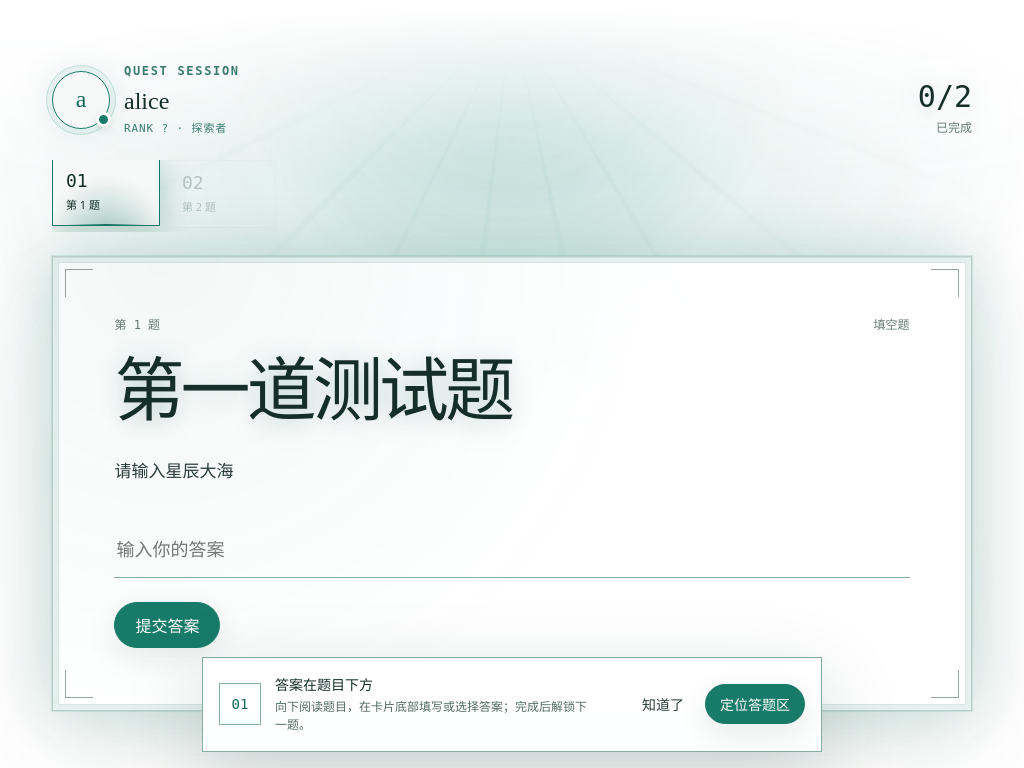
Test: QuestSessionView › uses the same positioned navigation after an AutoPlay image closes
In the field with placeholder "输入你的答案": coordinates (512, 549) [114, 520, 910, 578], type "星辰大海"
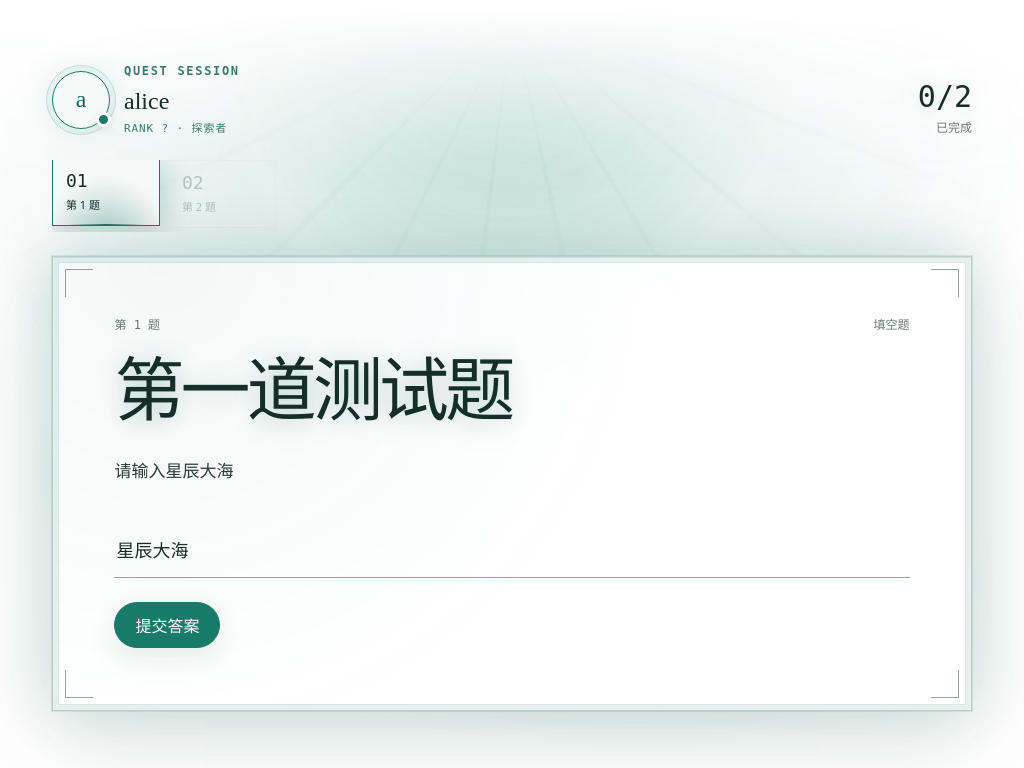
Click the button "提交答案": coordinates (167, 625) [114, 602, 220, 648]
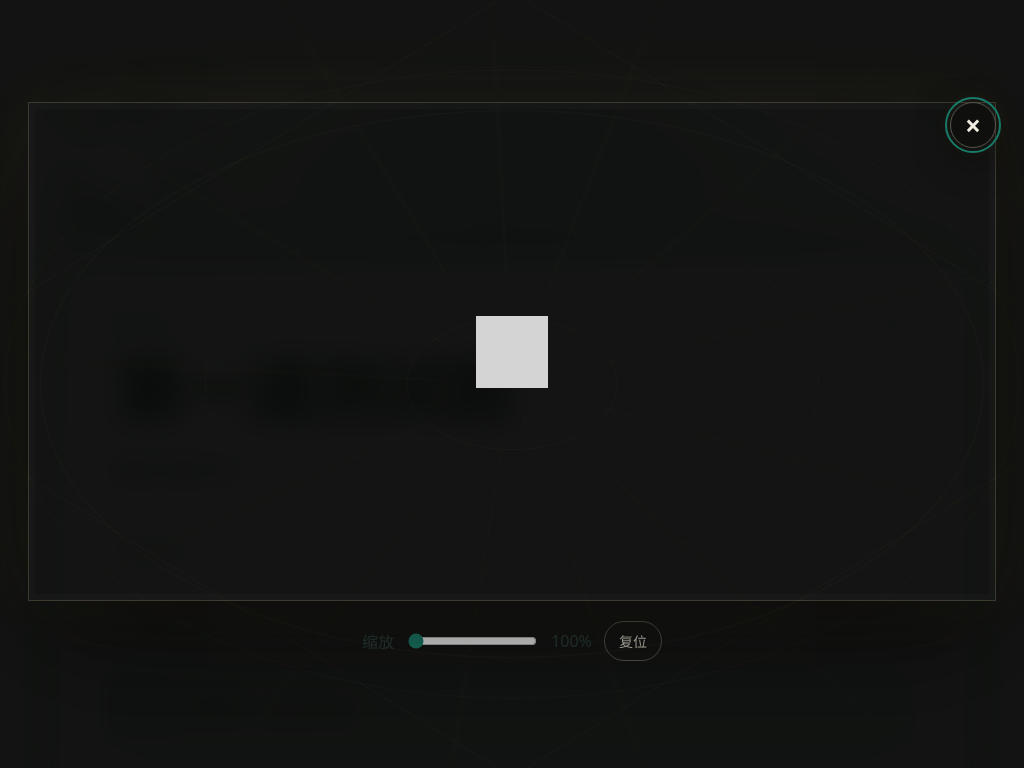
Result: the dialog named "图片预览" is shown
Click the button named "关闭媒体预览": coordinates (973, 125) [950, 102, 996, 148]
Wait 100 ms
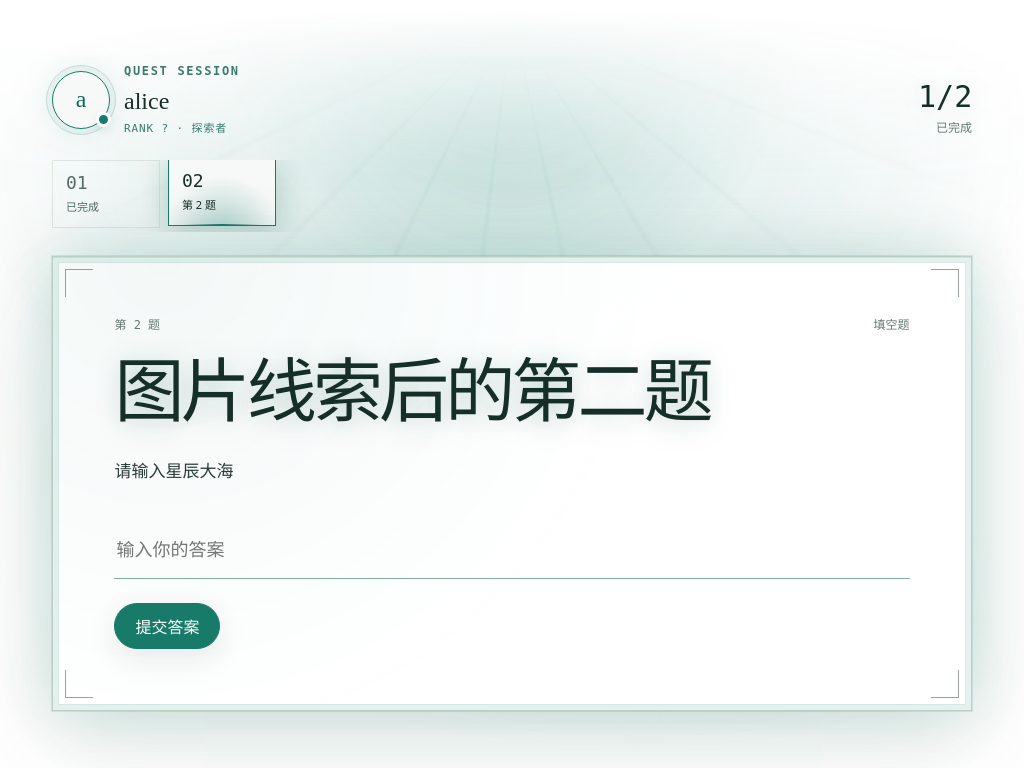
Result: the heading "图片线索后的第二题" is shown at [114, 358, 794, 427]
